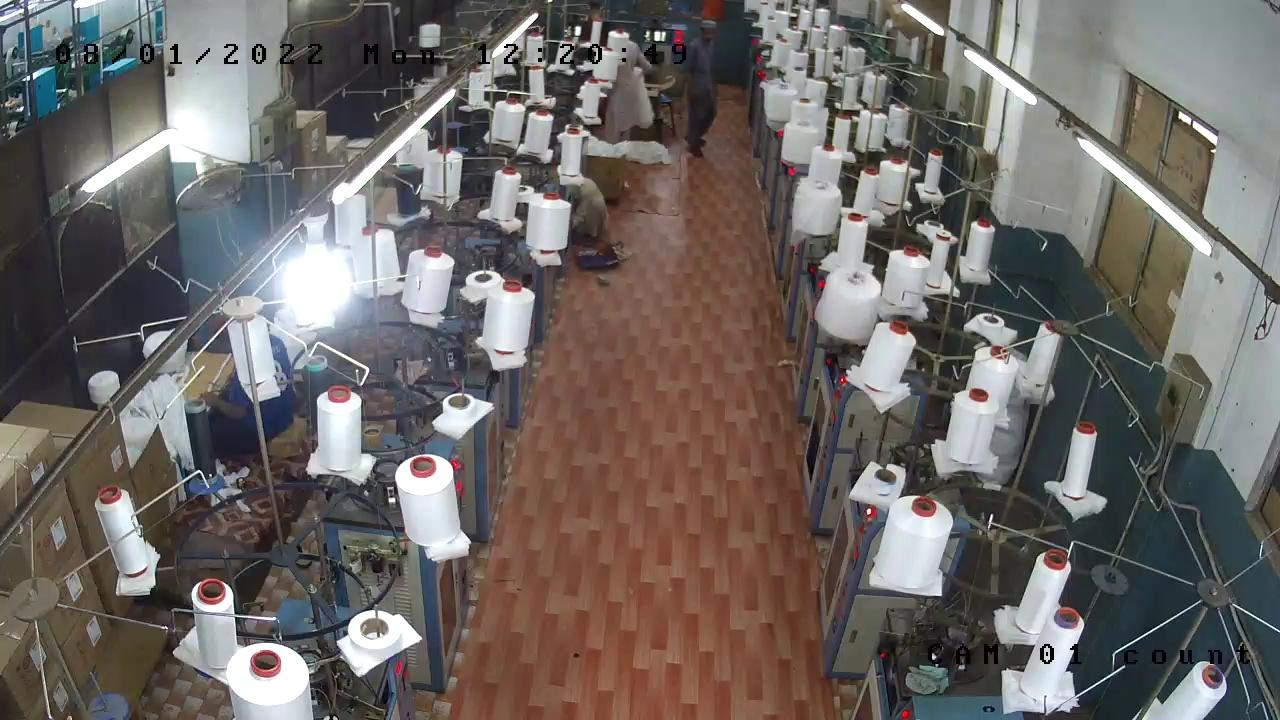person: (686, 22, 720, 148), (614, 42, 645, 145)
